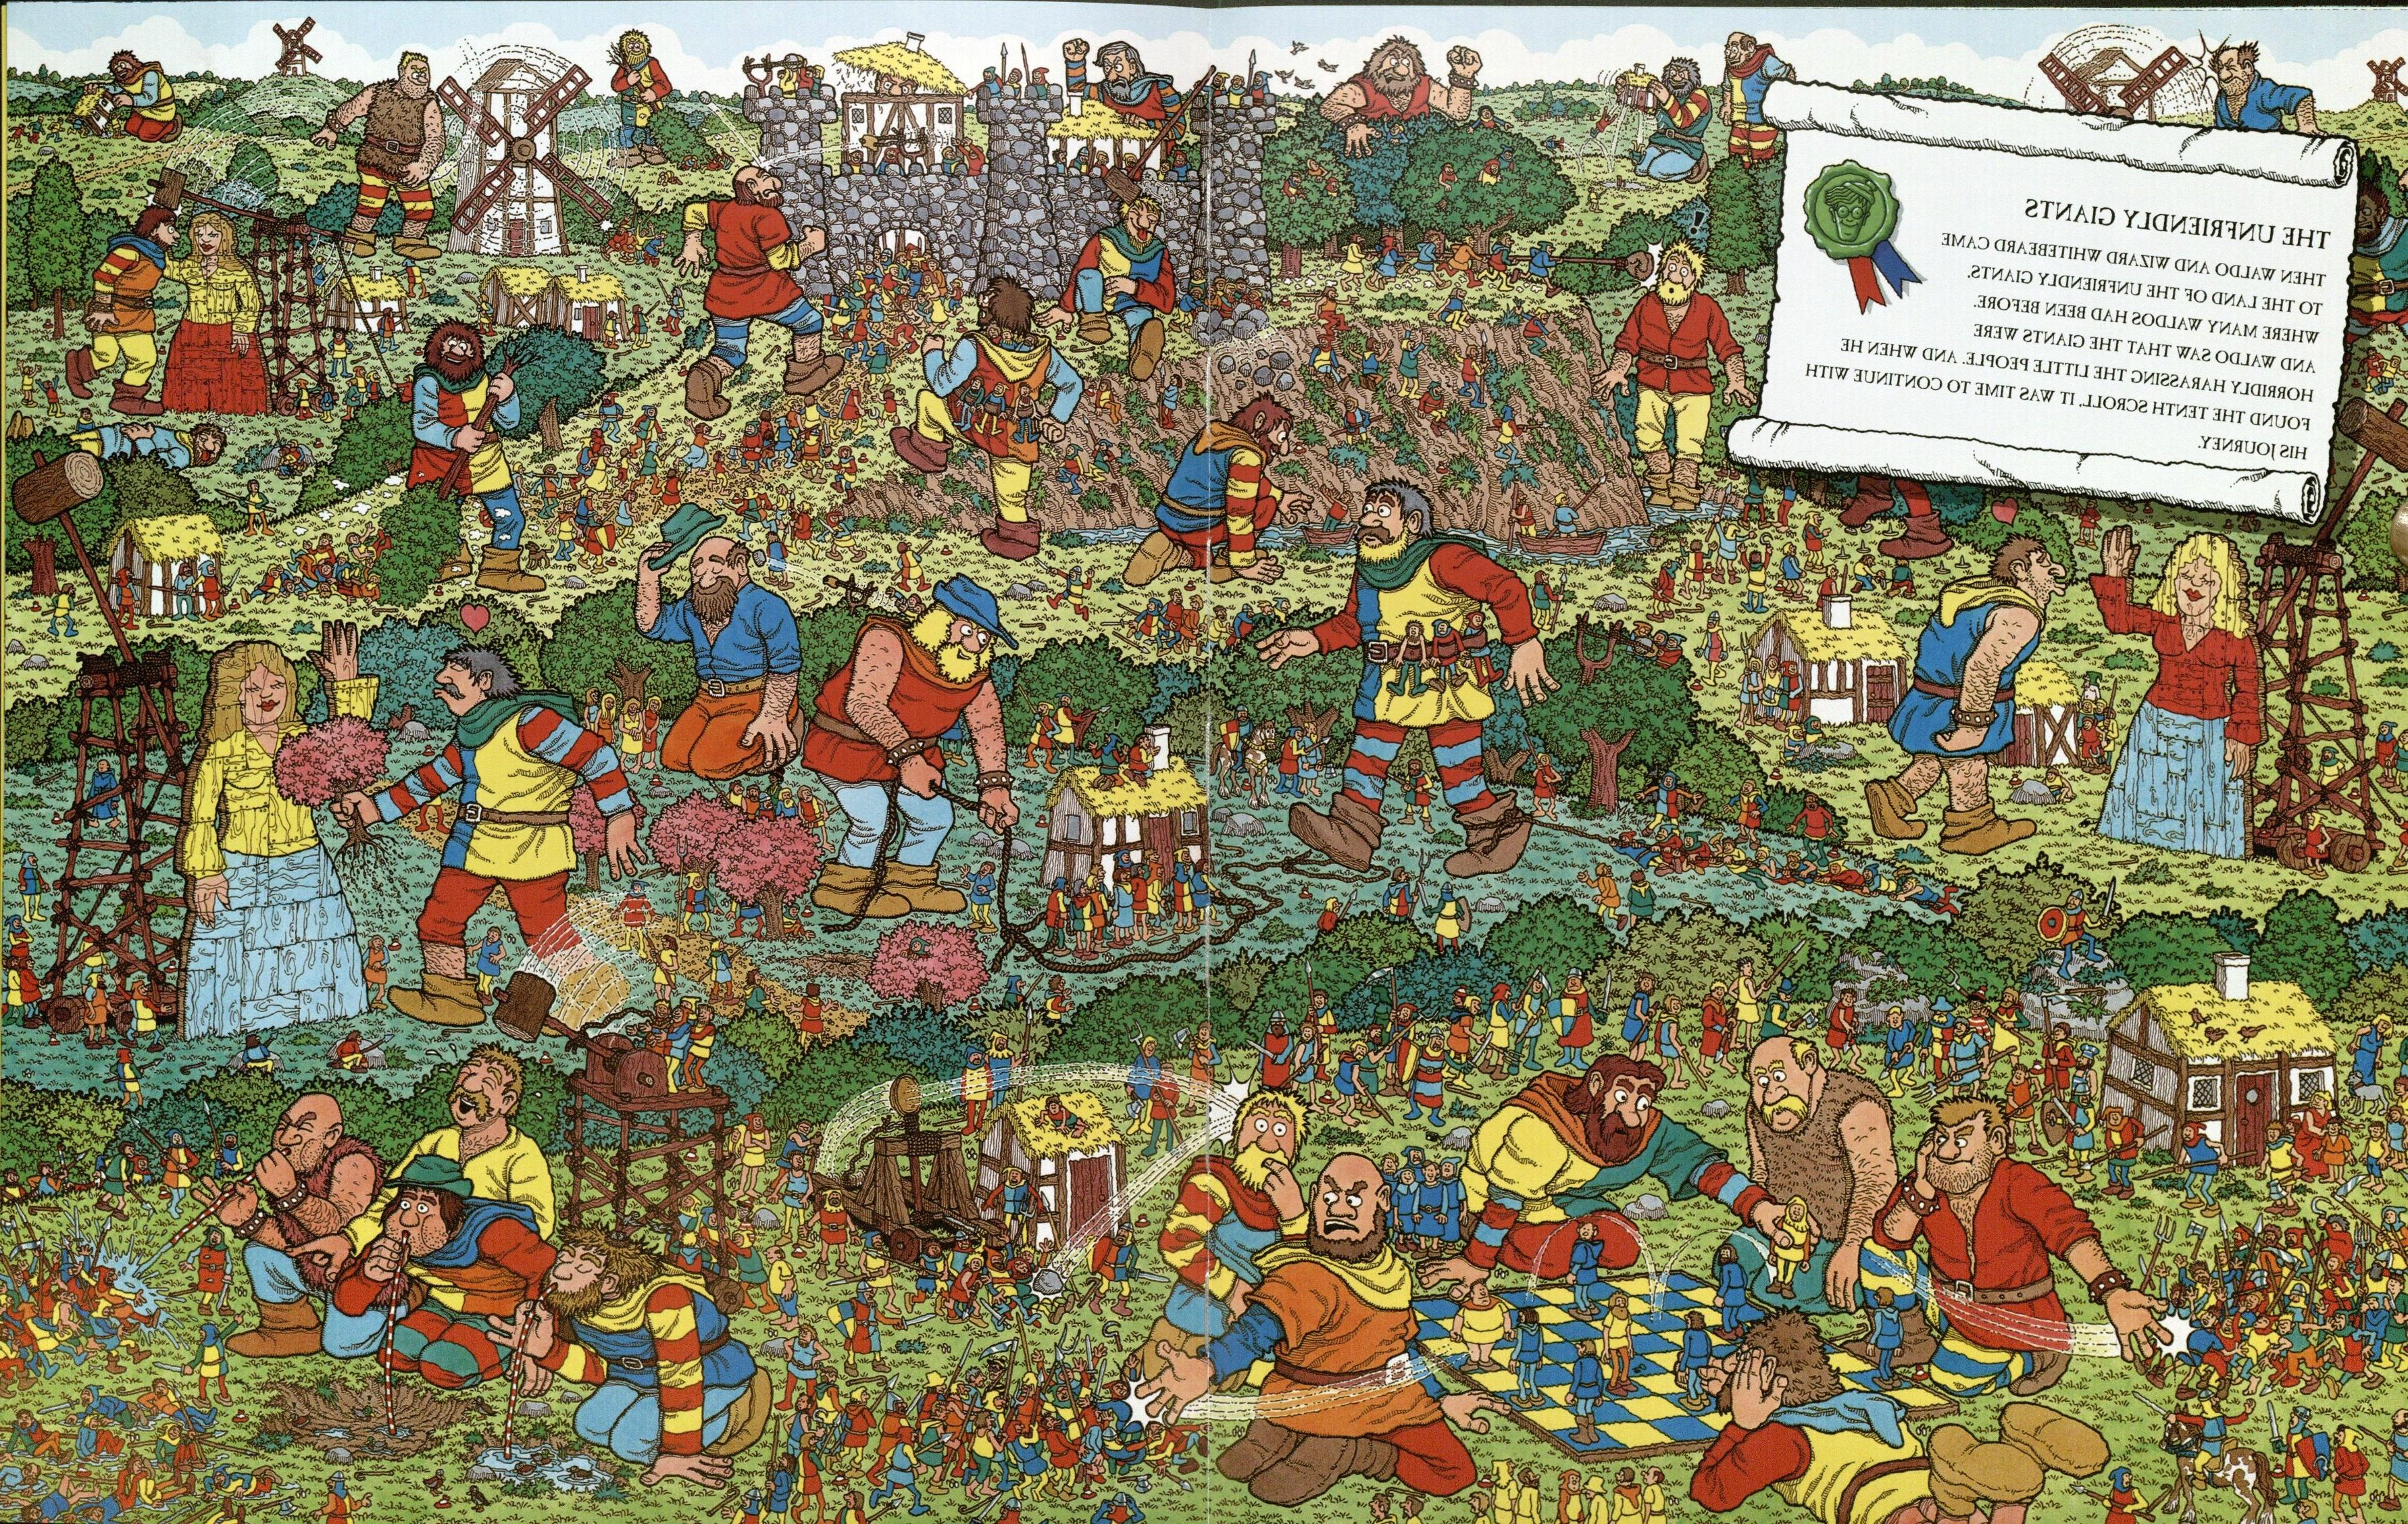waldos: (1964, 983, 1996, 1046)
